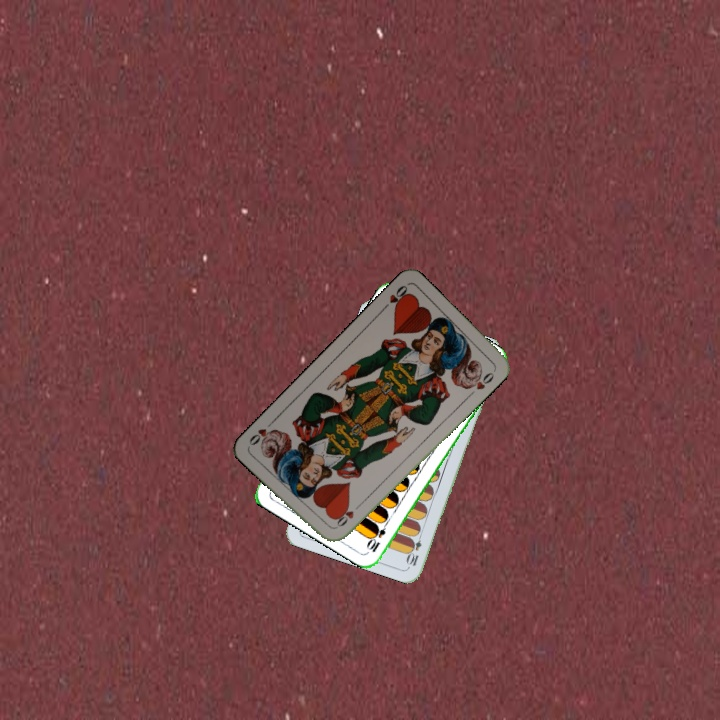E10: (364, 516, 391, 555), (404, 528, 425, 568)
HO: (378, 281, 412, 314), (330, 500, 364, 531)
